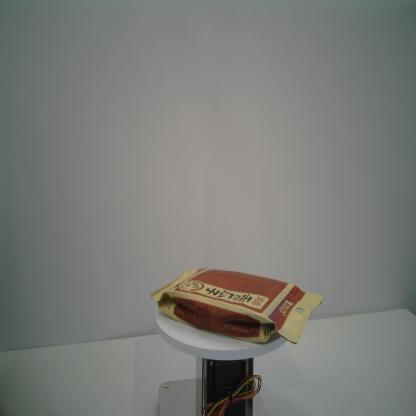Dried Food: (150, 267, 324, 346)
